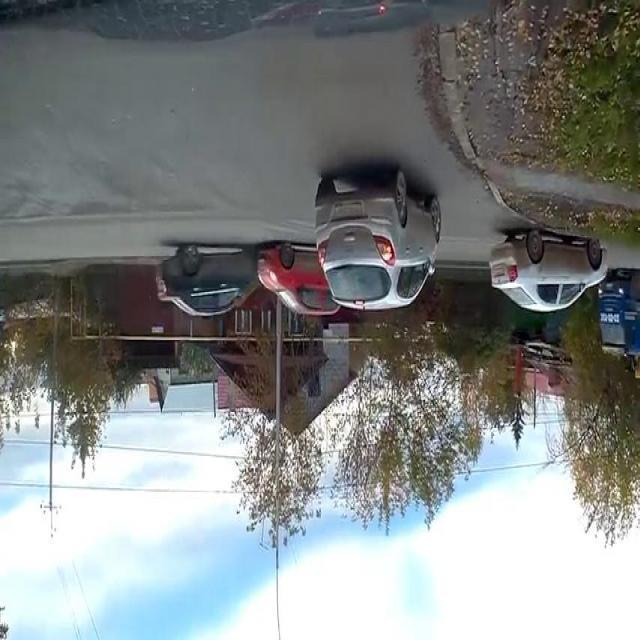vehicle: (136, 232, 350, 356)
